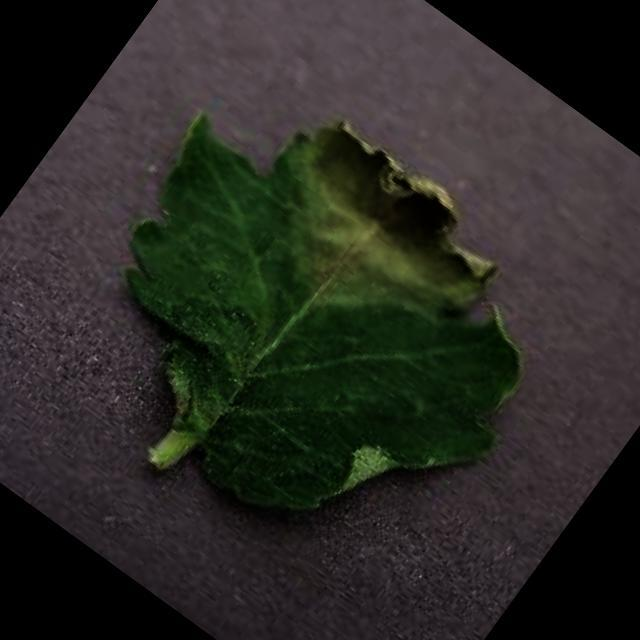Tomato late blight leaf: (33, 48, 603, 606)
